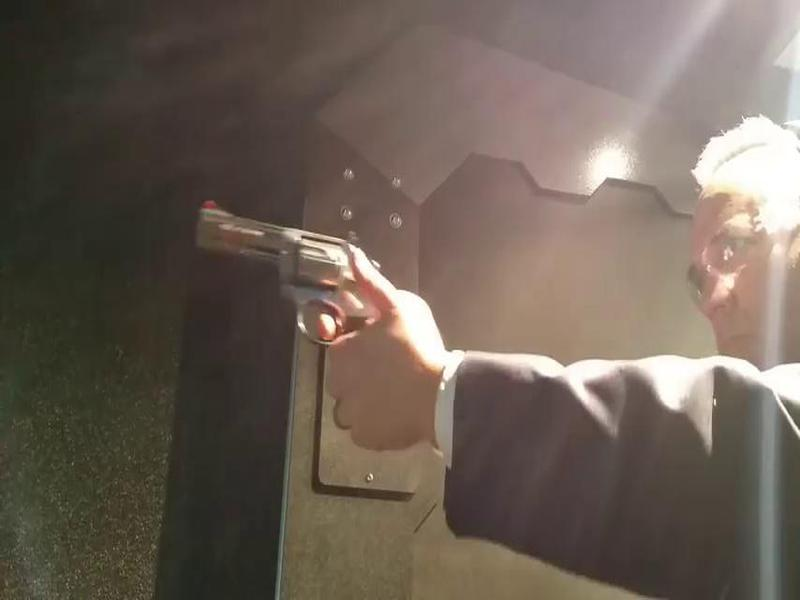Revolver: (187, 186, 428, 377)
